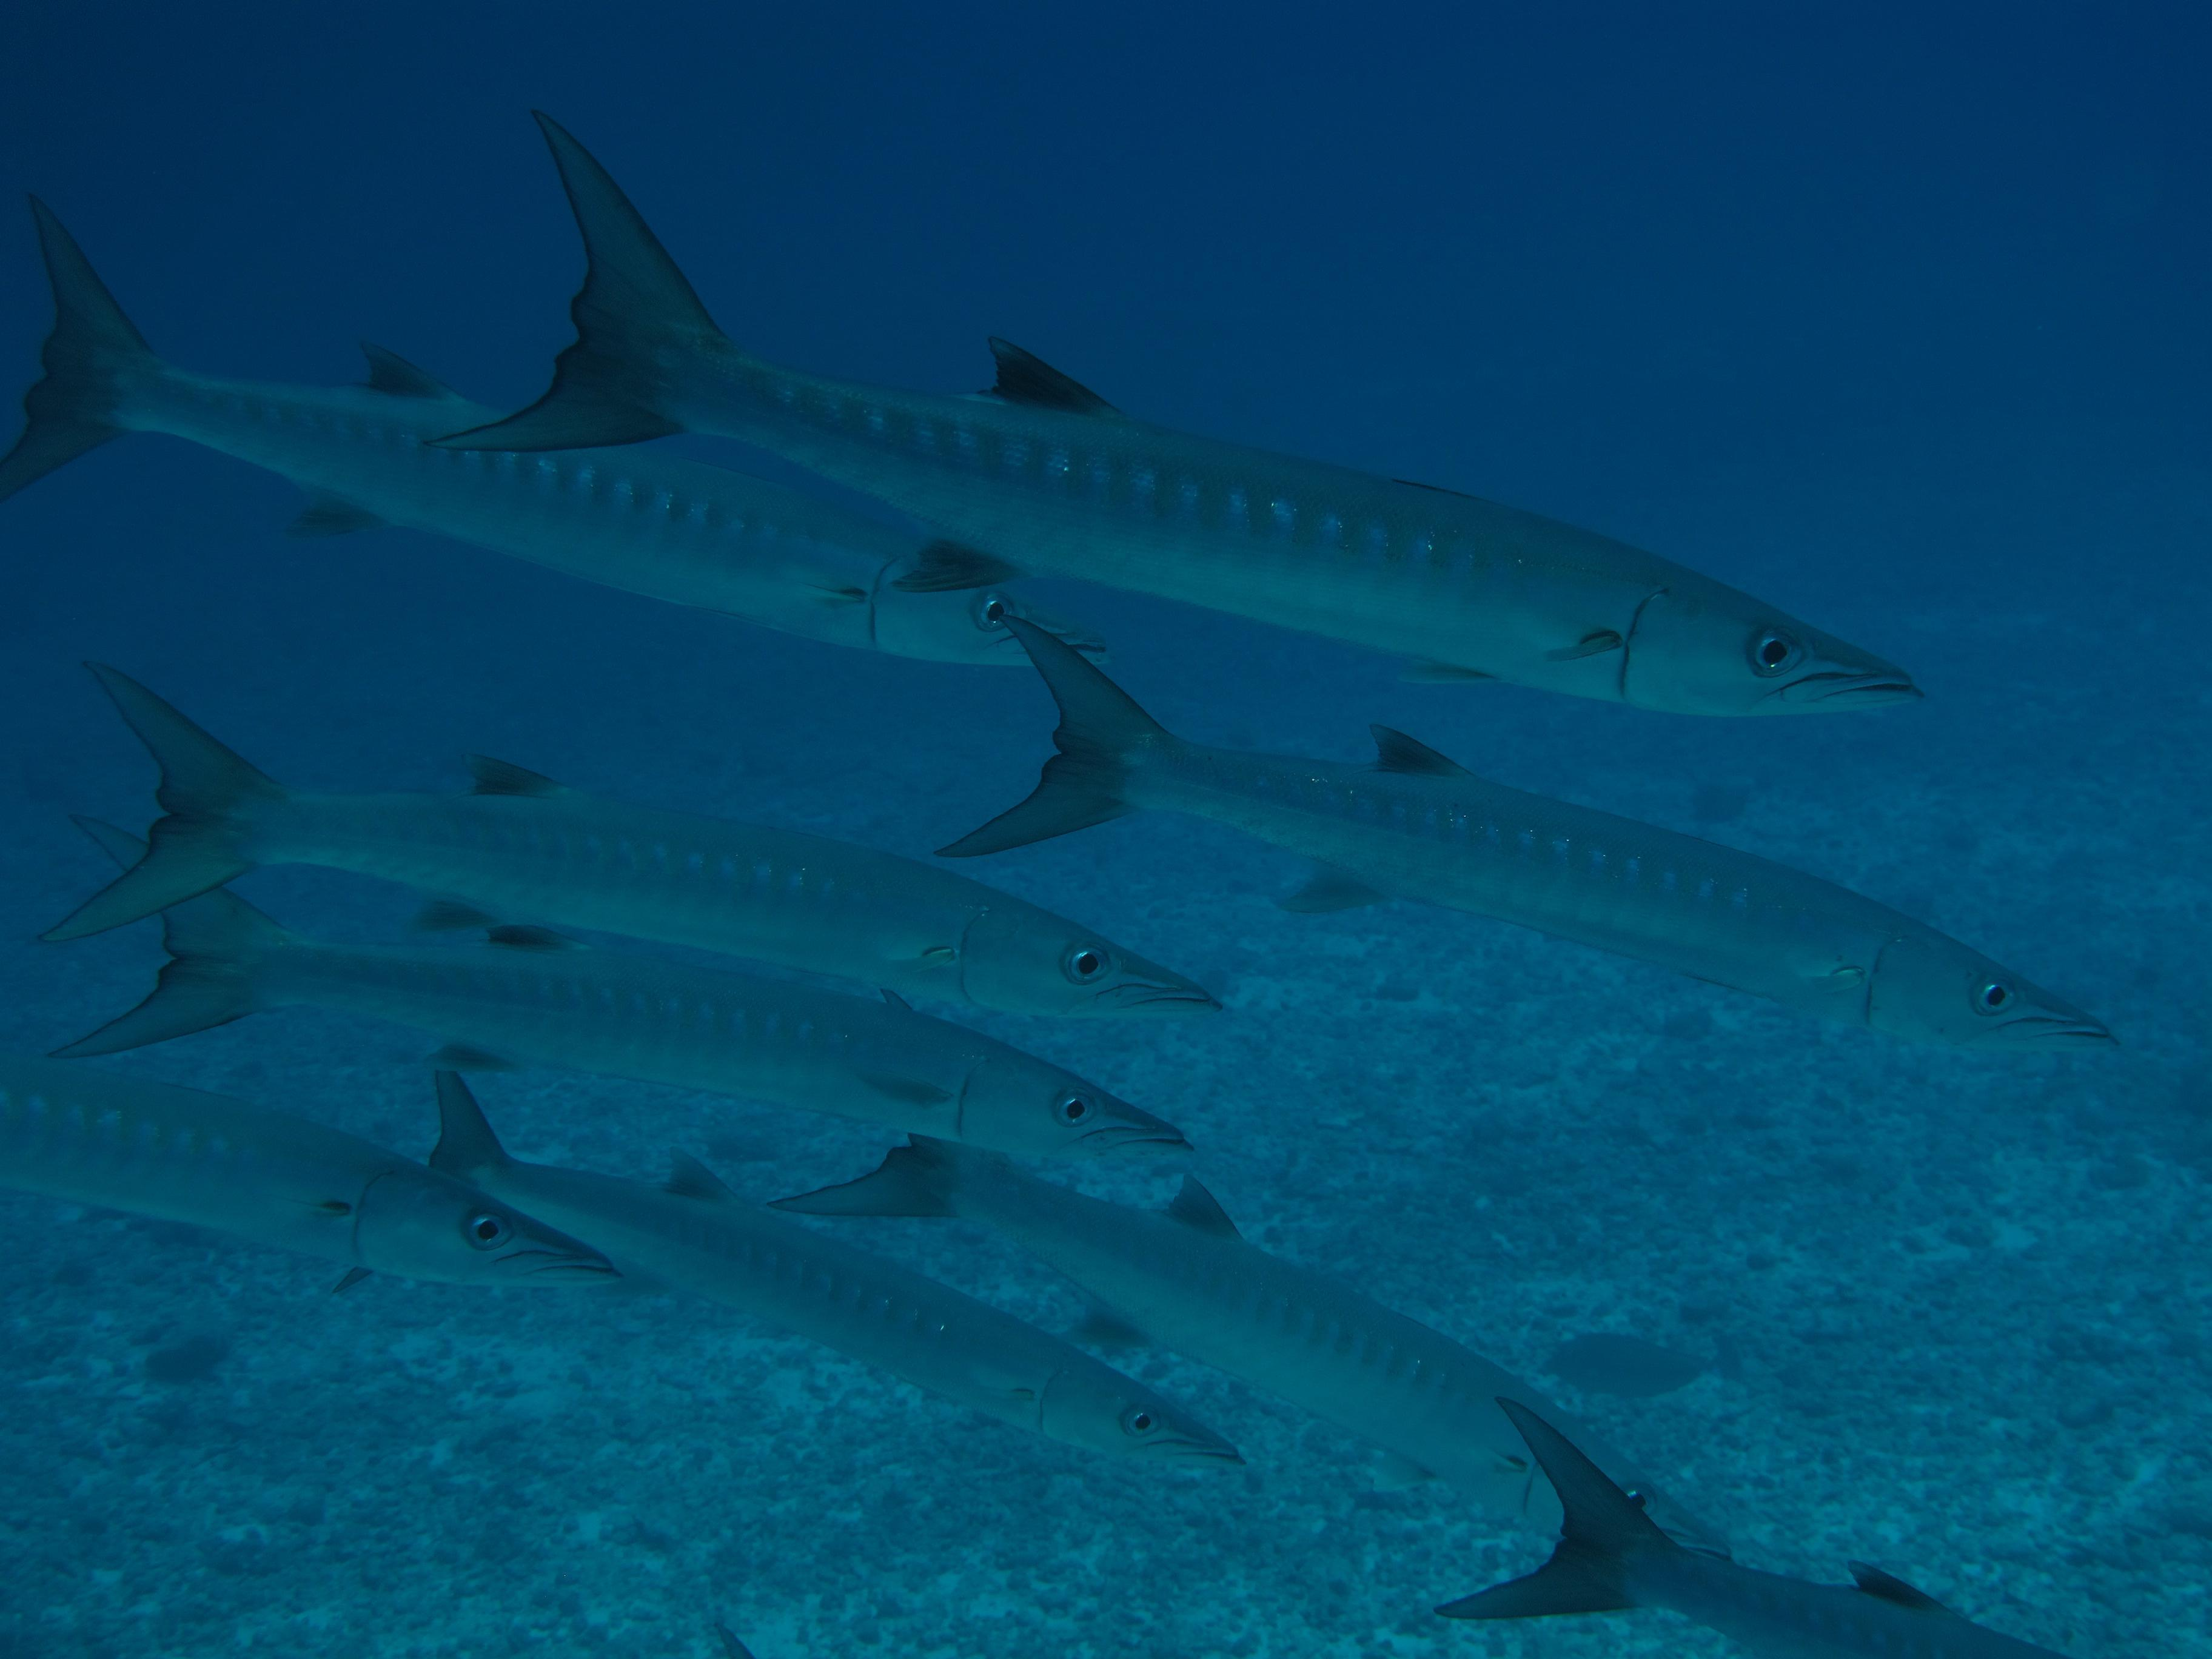Sphyraena qenie: (432, 92, 1991, 742), (3, 171, 1089, 702), (981, 592, 2125, 1073), (77, 601, 1221, 1077), (89, 798, 1198, 1169), (421, 1053, 1268, 1530)
